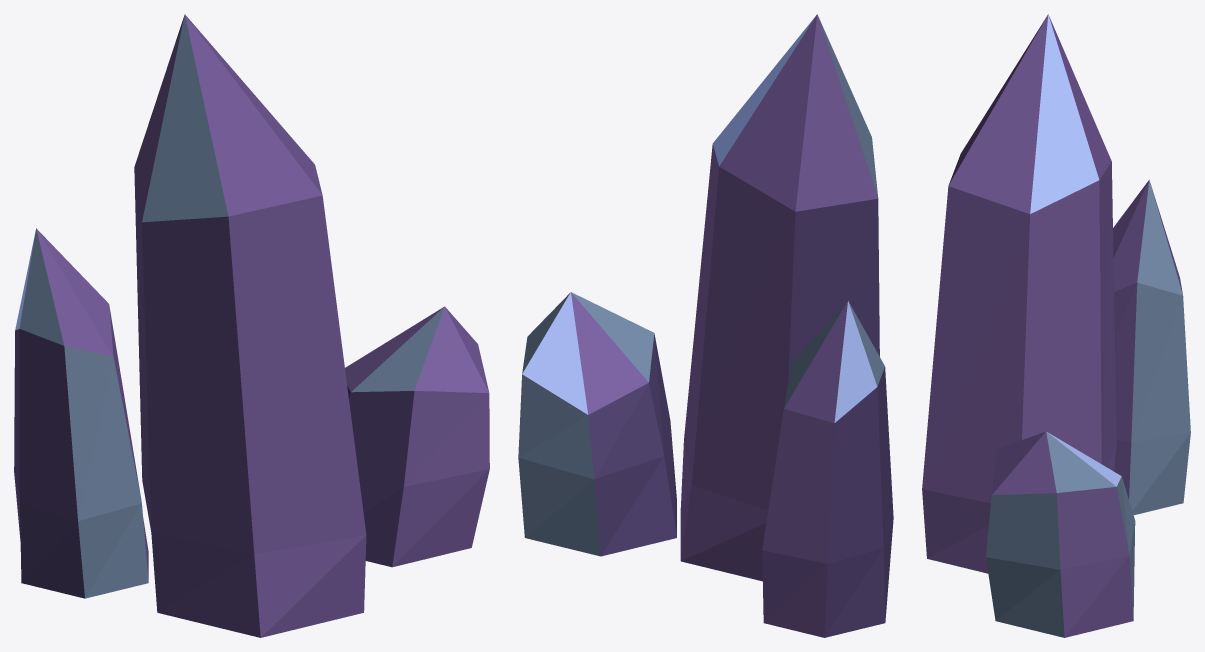
Rendered from Crystal_Blockout_B_Detail_v1.glb.
The picture shows the model from 3 angles, left to right: view 1: azimuth 30°, elevation 25°; view 2: azimuth 150°, elevation 25°; view 3: azimuth 270°, elevation 25°; orthographic projection. The views are drawn at different scales.
Parts seen in each view (by area): view 1: Crystal_Blockout_B_Detail_v1.001; view 2: Crystal_Blockout_B_Detail_v1.001; view 3: Crystal_Blockout_B_Detail_v1.001.
Part boxes in pixels (<box>): Crystal_Blockout_B_Detail_v1.001: <box>14,14,489,637</box>; Crystal_Blockout_B_Detail_v1.001: <box>518,14,893,637</box>; Crystal_Blockout_B_Detail_v1.001: <box>922,14,1190,637</box>.
Size of the model in its own units: 2.62 by 3.45 by 1.69.
